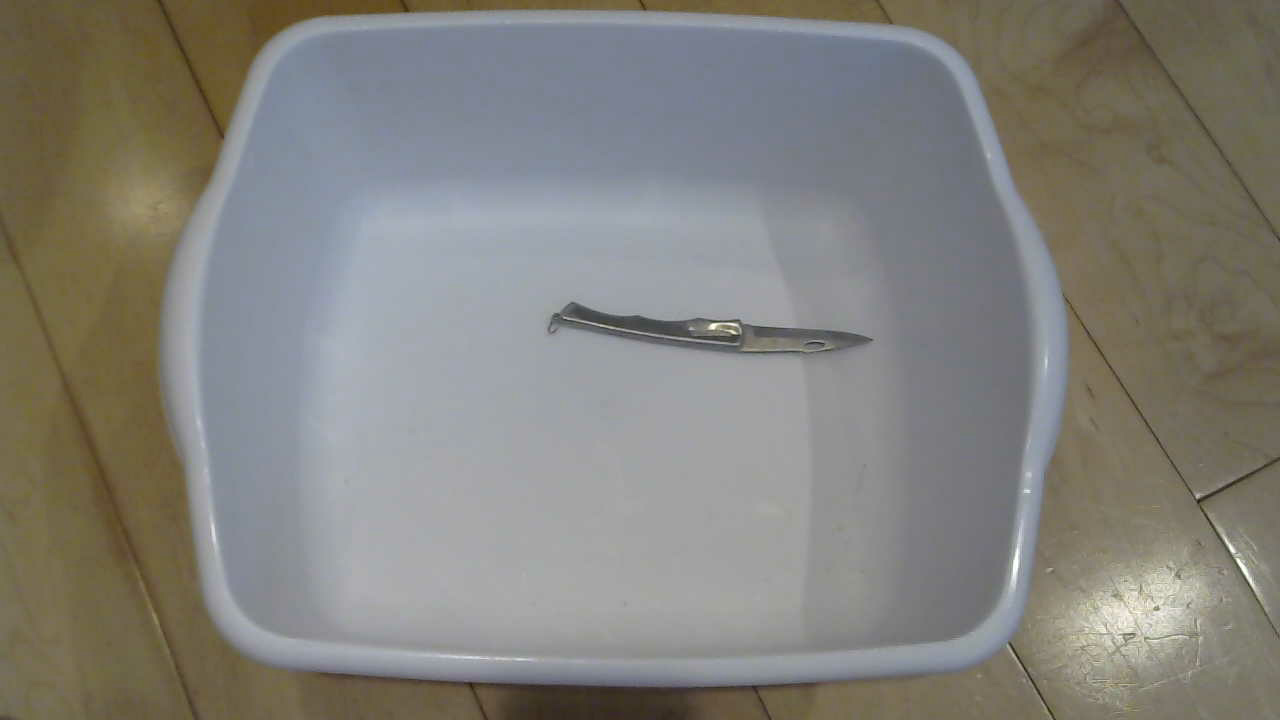knife: (544, 284, 919, 389)
